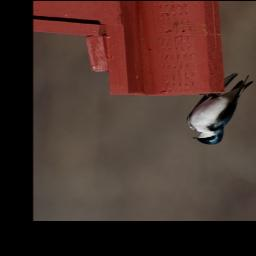Swallow: (186, 74, 254, 146)
